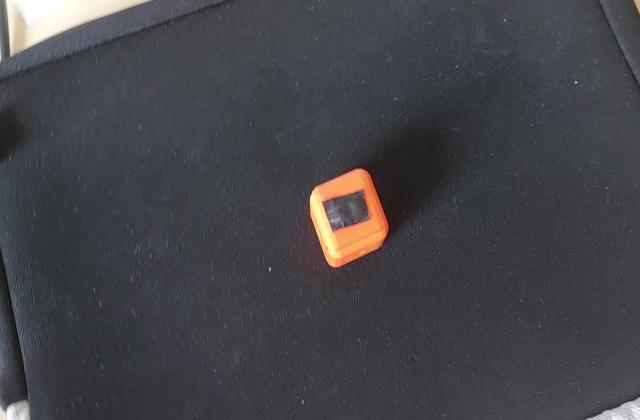black: (316, 186, 376, 234)
sticker: (306, 165, 391, 272)
